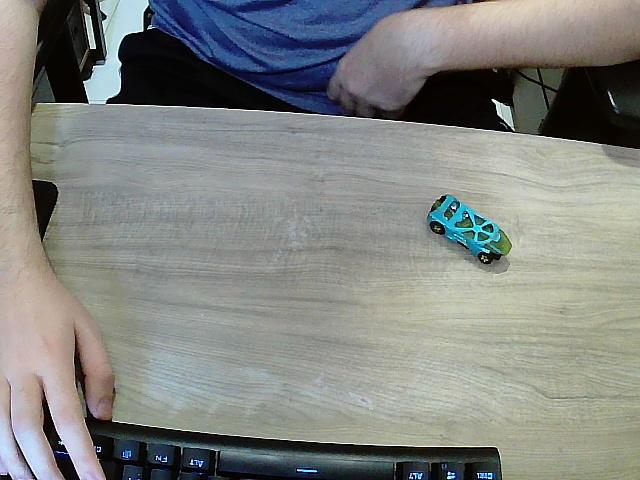Carro: (426, 195, 512, 268)
